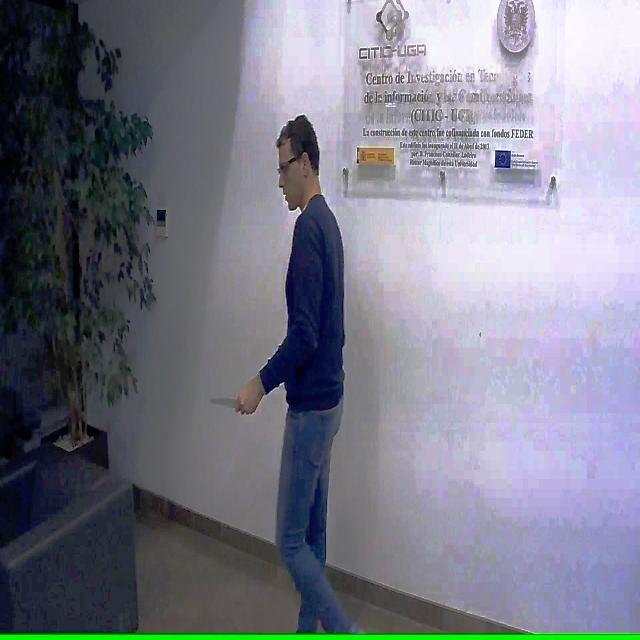Knife: (204, 378, 258, 422)
